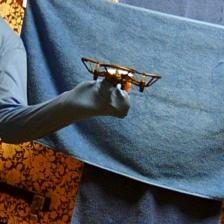drone: (81, 57, 162, 93)
